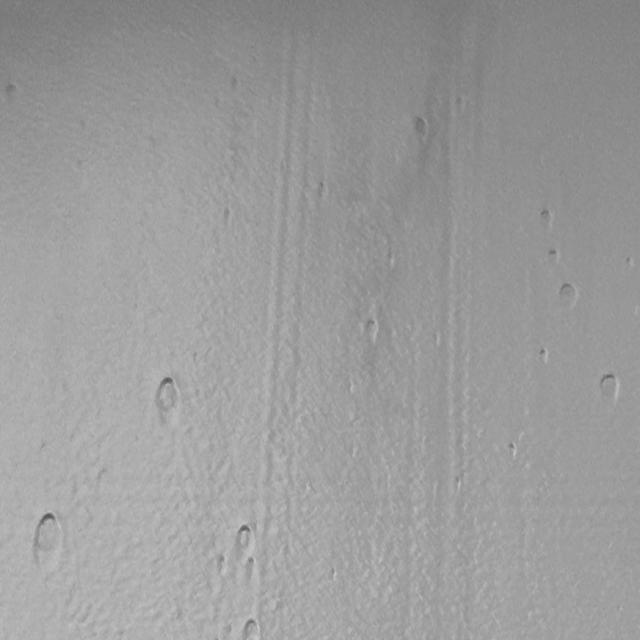pin holes: (26, 507, 68, 573), (153, 375, 186, 427), (594, 372, 621, 407), (231, 525, 257, 556), (555, 280, 581, 310), (410, 114, 432, 141), (360, 316, 381, 344), (536, 207, 555, 235), (240, 617, 262, 640), (451, 93, 469, 118), (2, 82, 21, 105), (312, 181, 330, 205), (545, 248, 563, 270), (244, 560, 258, 582), (537, 346, 552, 365), (506, 441, 520, 459), (453, 475, 464, 494), (328, 566, 339, 584), (624, 257, 636, 272), (219, 556, 227, 578)
